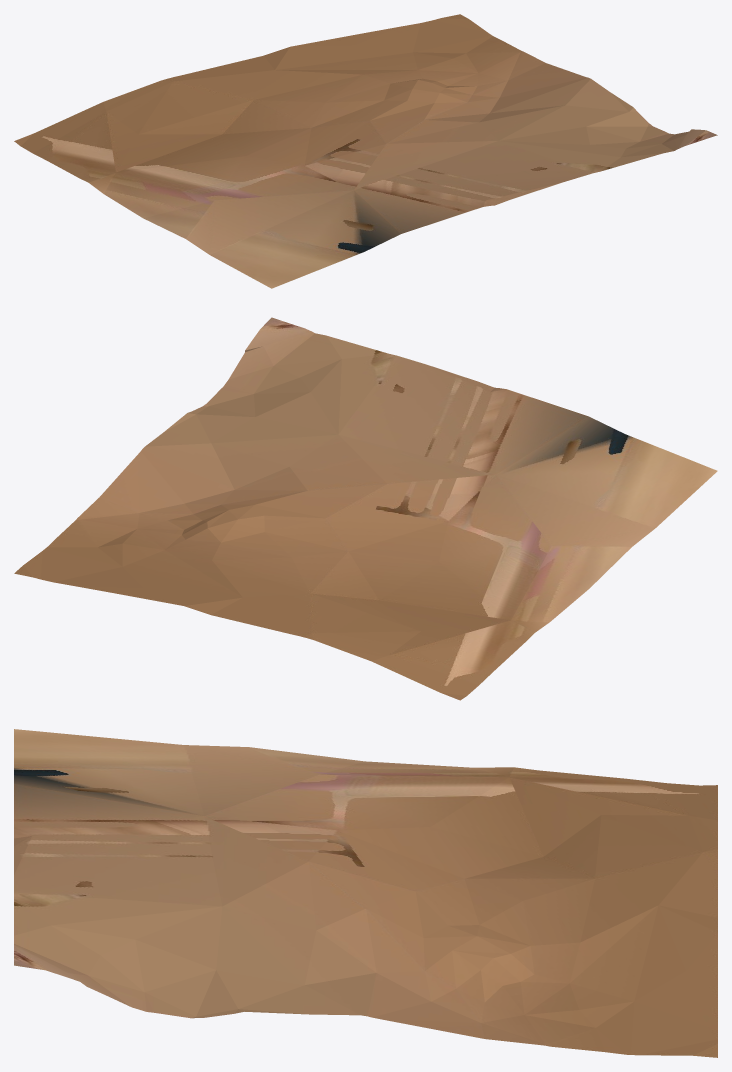
3 renders of one model, top to bottom at view 1: azimuth 30°, elevation 25°; view 2: azimuth 150°, elevation 25°; view 3: azimuth 270°, elevation 25°, orthographic. The views are drawn at different scales.
Bounding box in the file's own units: 1.04 × 0.1924 × 1.04.
2 materials, 2 textured.
